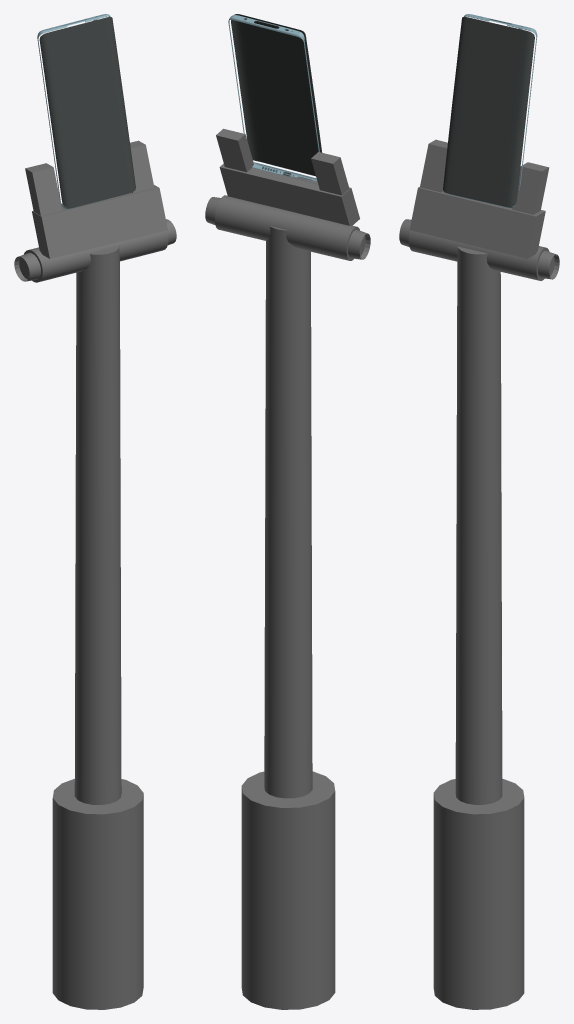
Rendered from Shou Ji.fbx.
3 views of the same model, side by side, from view 1: azimuth 30°, elevation 25°; view 2: azimuth 150°, elevation 25°; view 3: azimuth 330°, elevation 25° (orthographic). The views are drawn at different scales.
Parts seen in each view (by area): view 1: polySurface92, polySurface90, polySurface98, polySurface96; view 2: polySurface92, polySurface90, polySurface98, polySurface96; view 3: polySurface92, polySurface90, polySurface98, polySurface96.
Part boxes in pixels (x1,y1,x2,y2): polySurface92: (52, 246, 143, 1009); polySurface90: (37, 14, 135, 208); polySurface98: (25, 140, 167, 258); polySurface96: (14, 219, 176, 282); polySurface92: (241, 226, 335, 1009); polySurface90: (228, 14, 322, 184); polySurface98: (216, 128, 359, 225); polySurface96: (205, 195, 370, 260); polySurface92: (433, 246, 524, 1009); polySurface90: (443, 14, 537, 208); polySurface98: (409, 139, 549, 258); polySurface96: (399, 219, 559, 280).
Size of the model in its own units: 1.11 by 6.71 by 0.5998.
